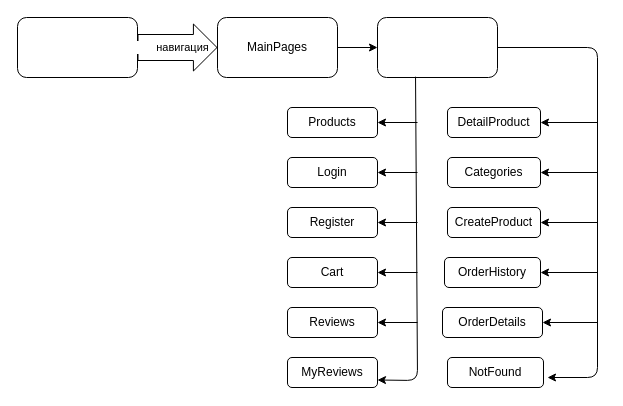
Some shapes in this 623 by 406 pixel diagram are drawn without their labels. The centre of each missing label's shape, as x and y in pixels:
Header: (x=77, y=47)
Routes: (x=437, y=47)
